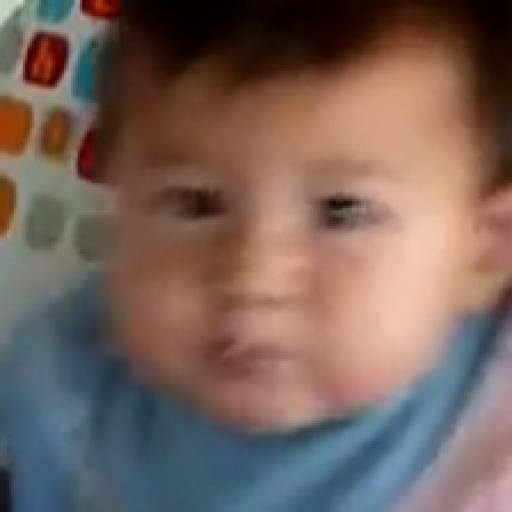Autism: (85, 22, 494, 512)
